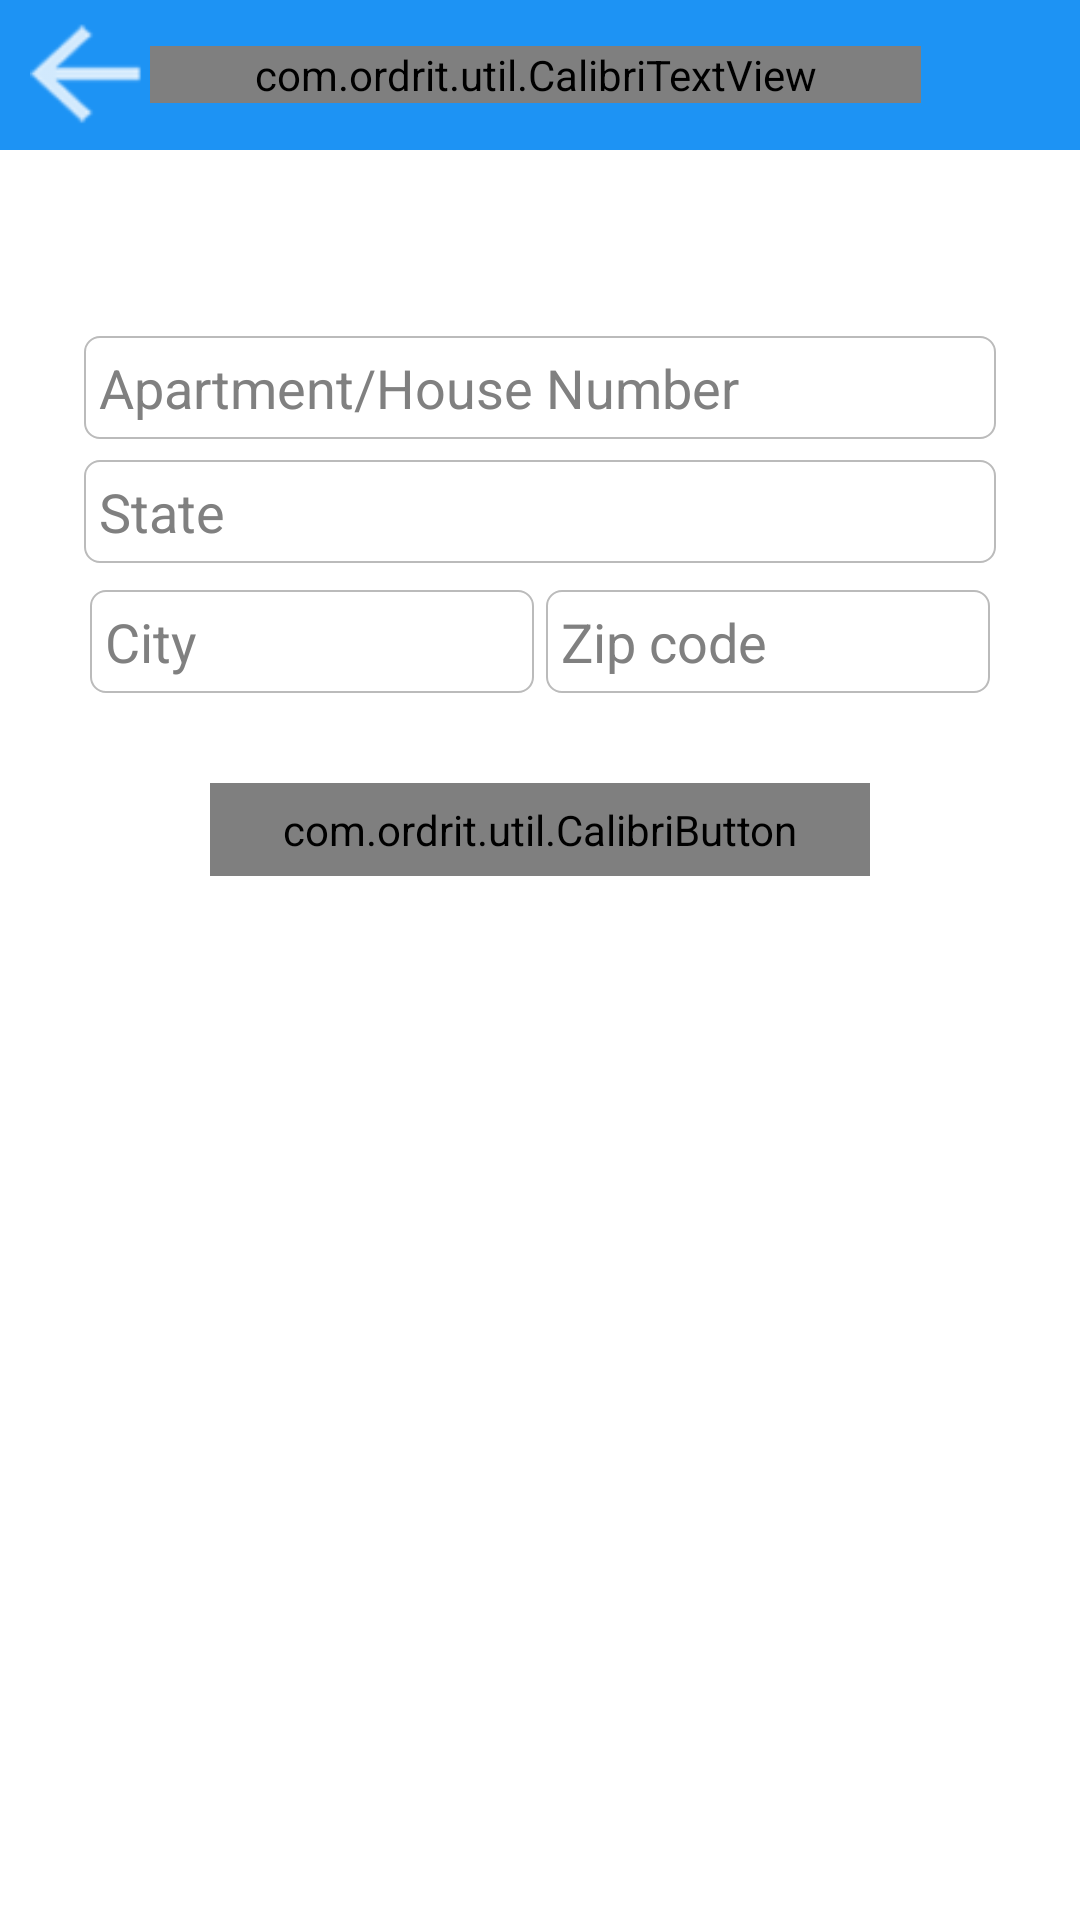

Icon bounding boxes for this 1080w x 1920h phone screenshot, format [x1=x1, y1=y1, x2=x2, y2=y2]:
previous item: [x1=30, y1=24, x2=141, y2=123]
